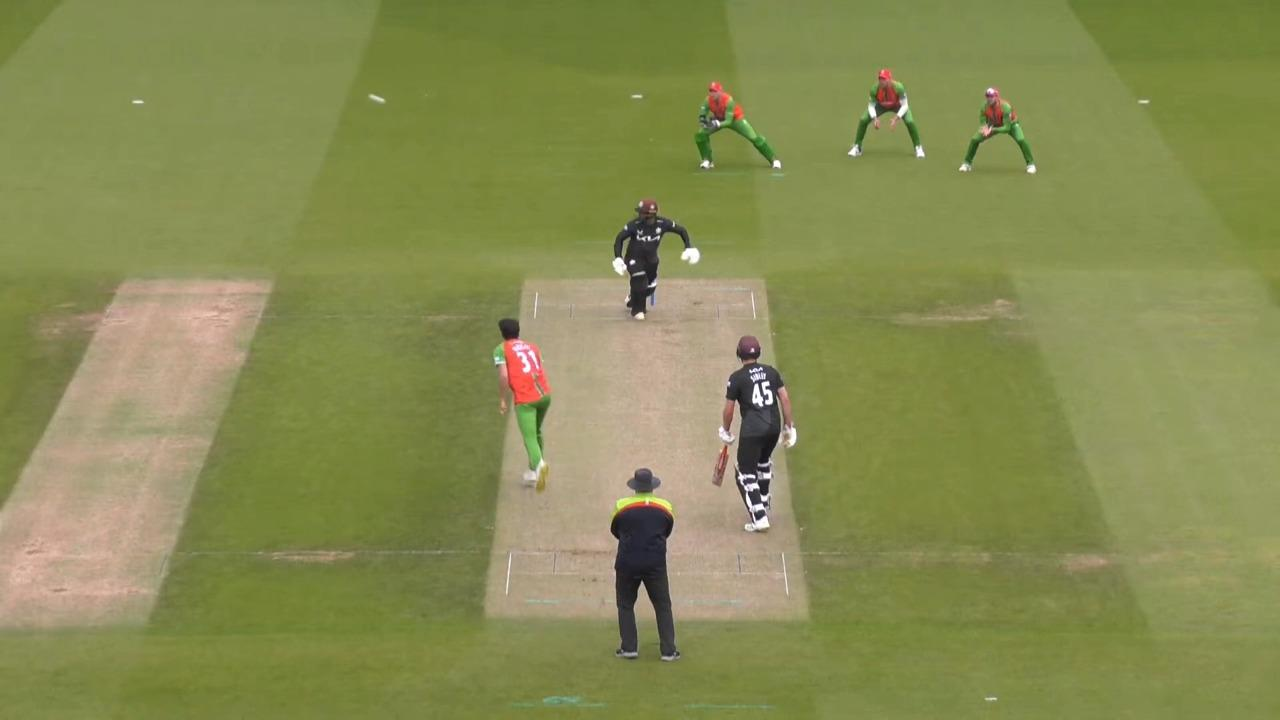sports ball: (367, 92, 386, 106)
